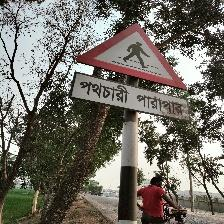Pedestrian-crossing: (70, 22, 191, 122)
